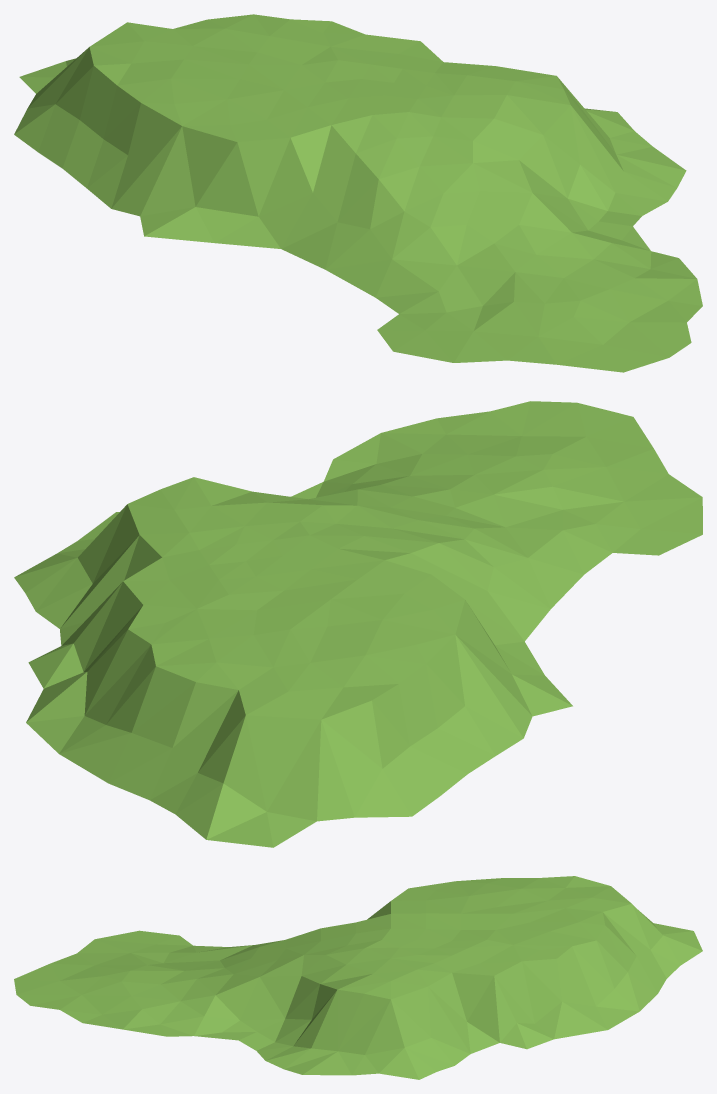
The model's file is MT_Mountain_L_c_11.fbx.
3 views of the same model, one above another, from view 1: azimuth 30°, elevation 25°; view 2: azimuth 150°, elevation 25°; view 3: azimuth 270°, elevation 25° (orthographic). The views are drawn at different scales.
Parts seen in each view (by area): view 1: MT_Mountain_L_c_11; view 2: MT_Mountain_L_c_11; view 3: MT_Mountain_L_c_11.
Part boxes in pixels (<box>): MT_Mountain_L_c_11: <box>14,14,702,372</box>; MT_Mountain_L_c_11: <box>14,401,702,847</box>; MT_Mountain_L_c_11: <box>14,876,702,1079</box>.
Bounding box in the file's own units: 3677 × 575 × 6160.
